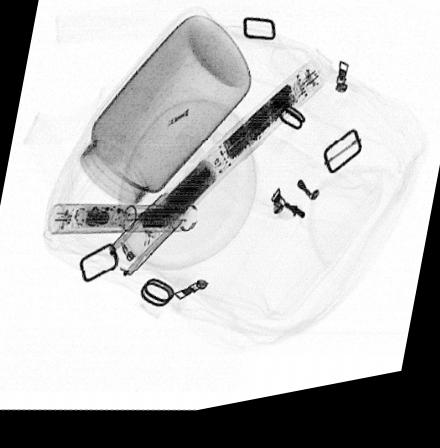Baton: (107, 68, 326, 283), (46, 205, 197, 238)
